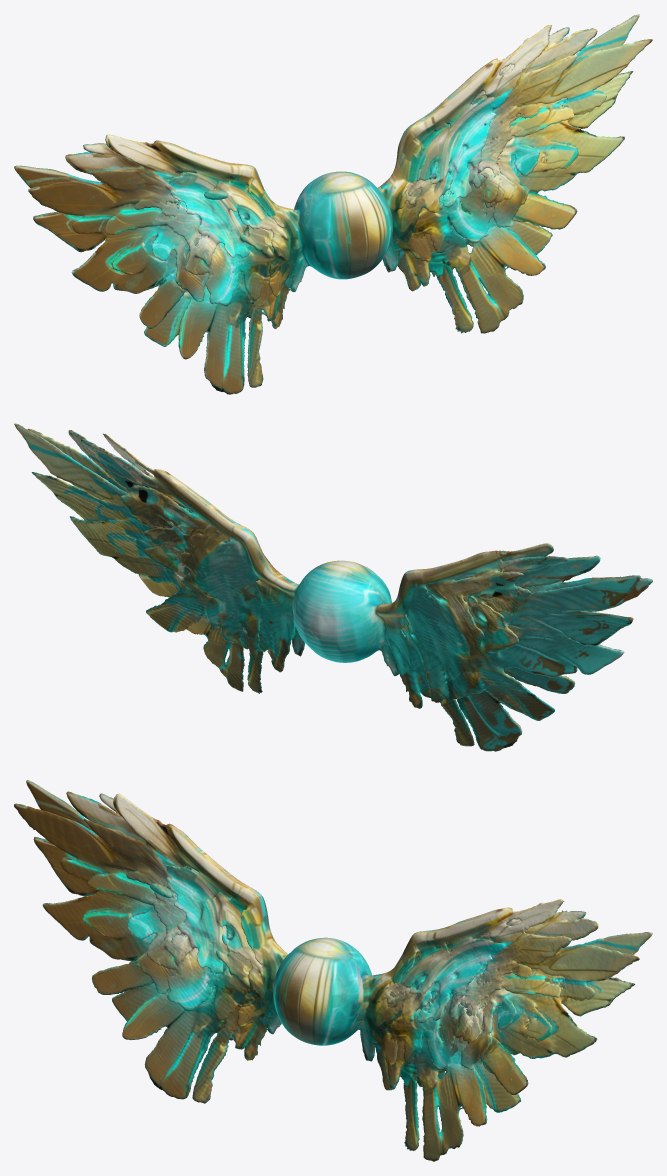
Rendered from power.glb.
3 renders of one model, top to bottom at view 1: azimuth 30°, elevation 25°; view 2: azimuth 150°, elevation 25°; view 3: azimuth 330°, elevation 25°, orthographic.
Bounding box in the file's own units: 2.02 × 0.7959 × 0.278.
1 material, 1 textured.
